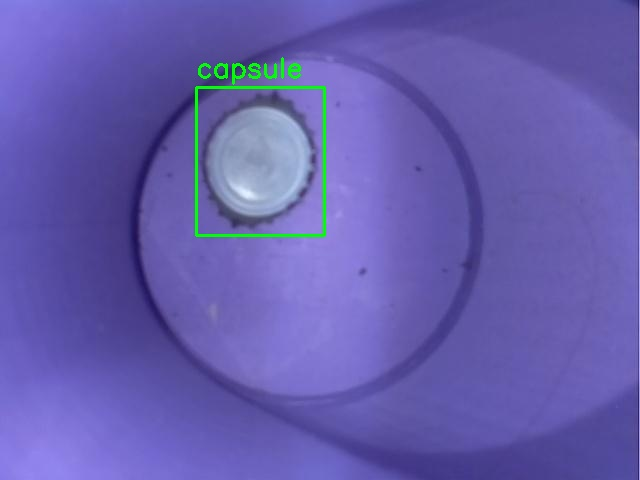capsule: (196, 87, 324, 235)
